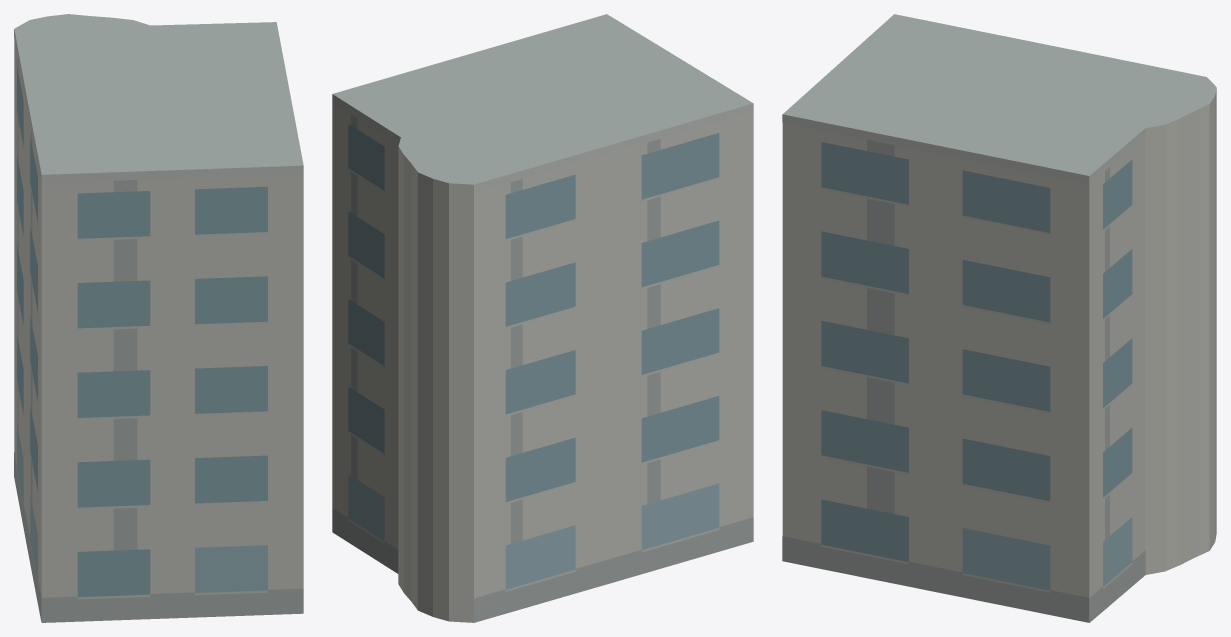
The model's file is survey-upis-33005046.glb.
3 views of the same model, side by side, from view 1: azimuth 30°, elevation 25°; view 2: azimuth 150°, elevation 25°; view 3: azimuth 270°, elevation 25° (orthographic). The views are drawn at different scales.
Visible parts, largest first — view 1: survey-upis-33005046.tmp; view 2: survey-upis-33005046.tmp; view 3: survey-upis-33005046.tmp.
Boxes of the visible parts, x1,y1,x2,y2 form: survey-upis-33005046.tmp: (14, 14, 303, 622); survey-upis-33005046.tmp: (332, 14, 753, 622); survey-upis-33005046.tmp: (782, 14, 1216, 622).
Size of the model in its own units: 9.96 by 12.8 by 11.28.
